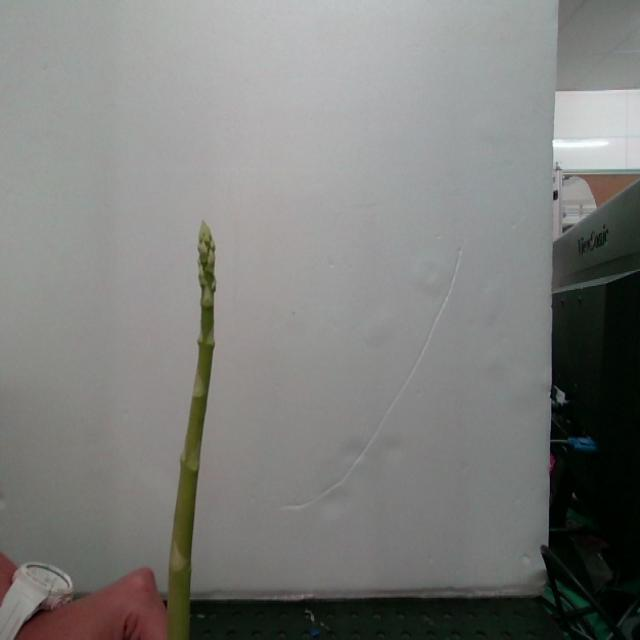aspargus: (168, 223, 219, 640)
